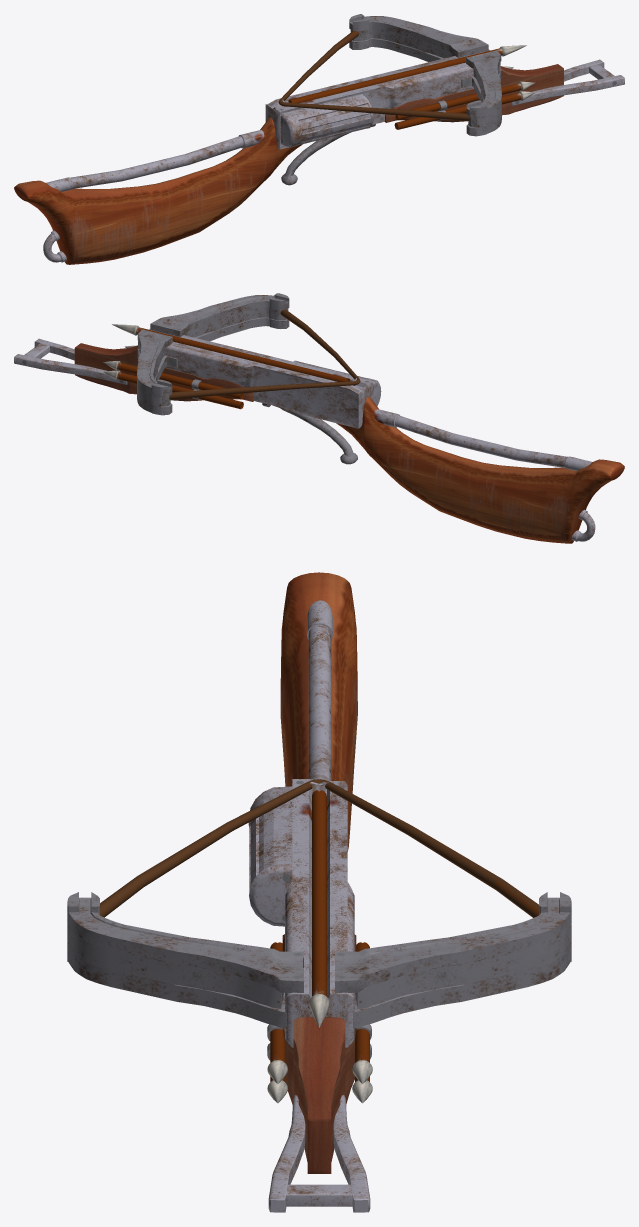
File: crossbow.glb
The picture shows the model from 3 angles, top to bottom: view 1: azimuth 30°, elevation 25°; view 2: azimuth 150°, elevation 25°; view 3: azimuth 270°, elevation 25°; orthographic projection. The views are drawn at different scales.
Parts seen in each view (by area): view 1: g; view 2: g; view 3: g.
Part boxes in pixels (x1,y1,x2,y2): g: (14,14,624,264); g: (14,293,624,543); g: (67,572,571,1212).
Bounding box in the file's own units: 2 × 0.3973 × 0.7382.
1 material, 1 textured.
